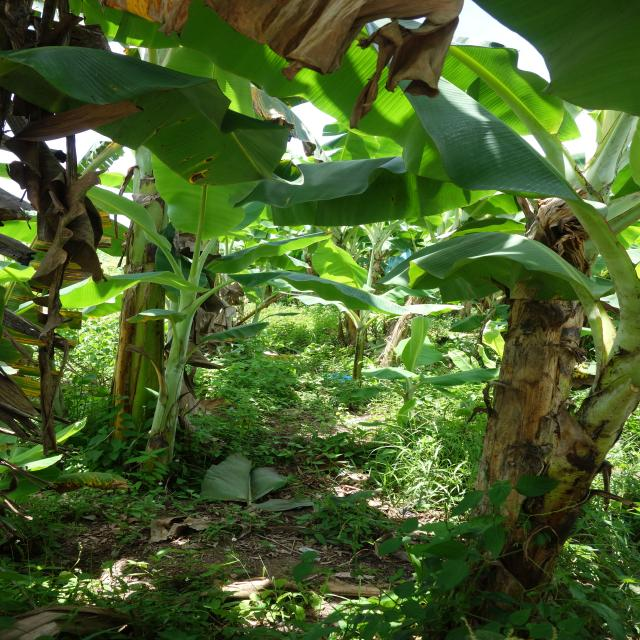Banana-plant: (456, 242, 640, 640), (450, 138, 593, 573)
